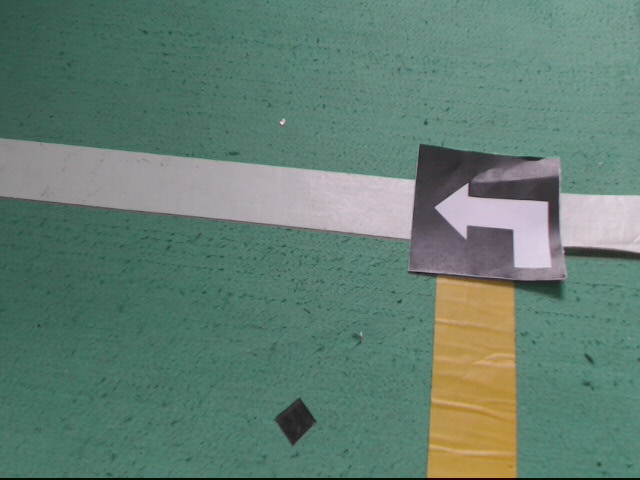left: (407, 142, 568, 283)
